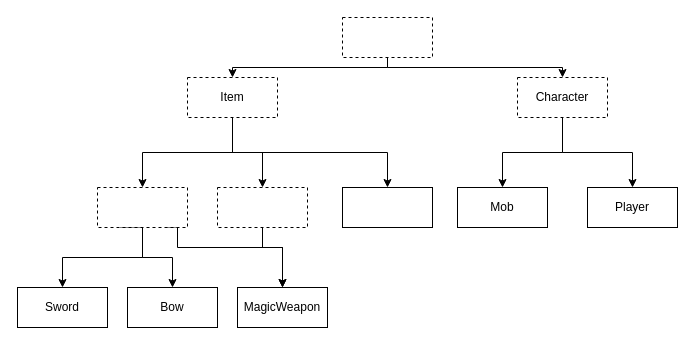
This 695x345 diagram has some shape labels left out. Here are the shapes that lost their labels. From the top down, the centre of each, then its label:
the point at 387,37: Entity
the point at 142,207: Weapon
the point at 262,207: Magic
the point at 387,207: Potion
